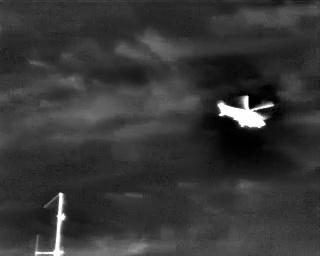HELICOPTER: (215, 90, 277, 134)
